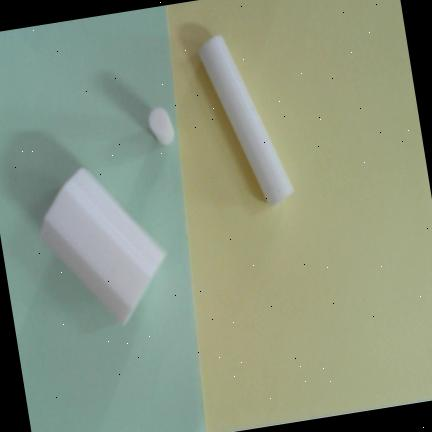Cilindro: (200, 35, 294, 204), (149, 107, 174, 145)
Prisma_hexagonal: (42, 168, 166, 323)
